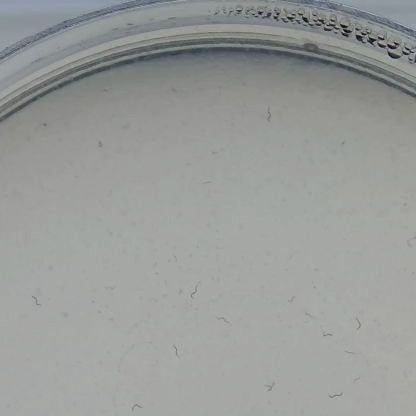worm: (213, 313, 233, 331), (184, 281, 201, 302), (27, 291, 45, 308), (168, 341, 184, 360), (262, 107, 276, 126), (323, 389, 347, 399), (127, 401, 145, 414), (303, 309, 321, 321), (352, 317, 367, 331), (261, 380, 277, 392), (349, 375, 366, 385), (403, 236, 416, 249), (322, 329, 336, 341), (288, 295, 300, 309)
